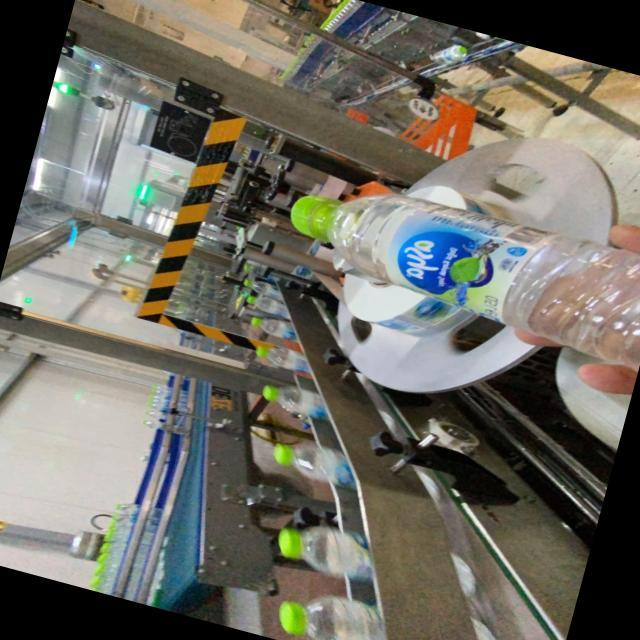good: (278, 154, 640, 376)
